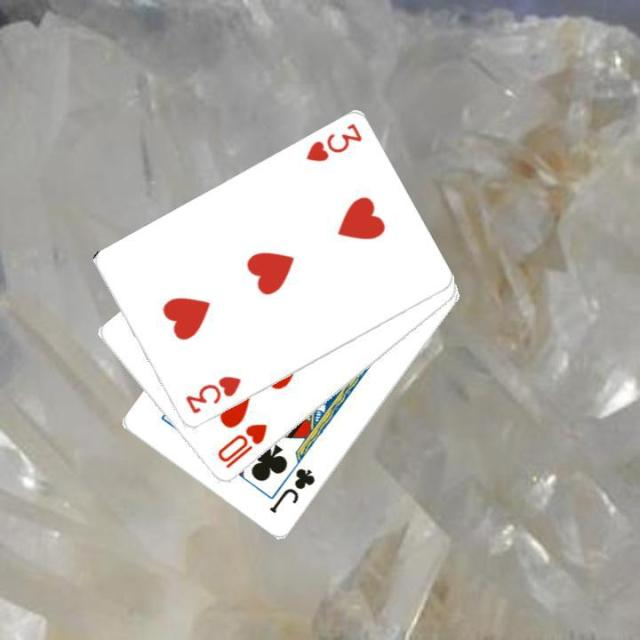10H: (213, 420, 270, 471)
3H: (180, 372, 242, 416), (302, 120, 364, 164)
JC: (265, 464, 317, 516)
